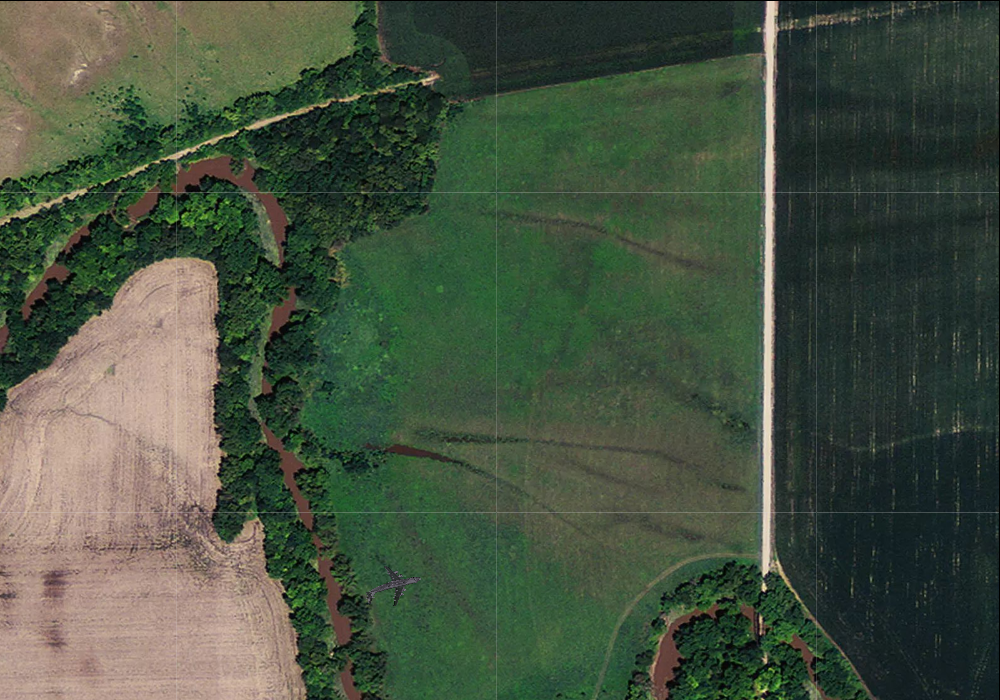plane: (359, 557, 427, 619)
